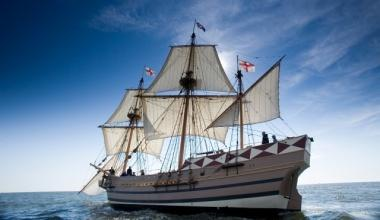fanchuan: (96, 19, 318, 205)
